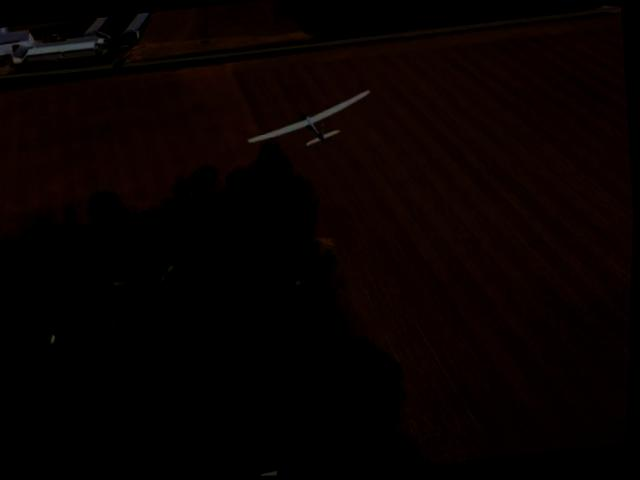iha: (244, 87, 373, 153)
